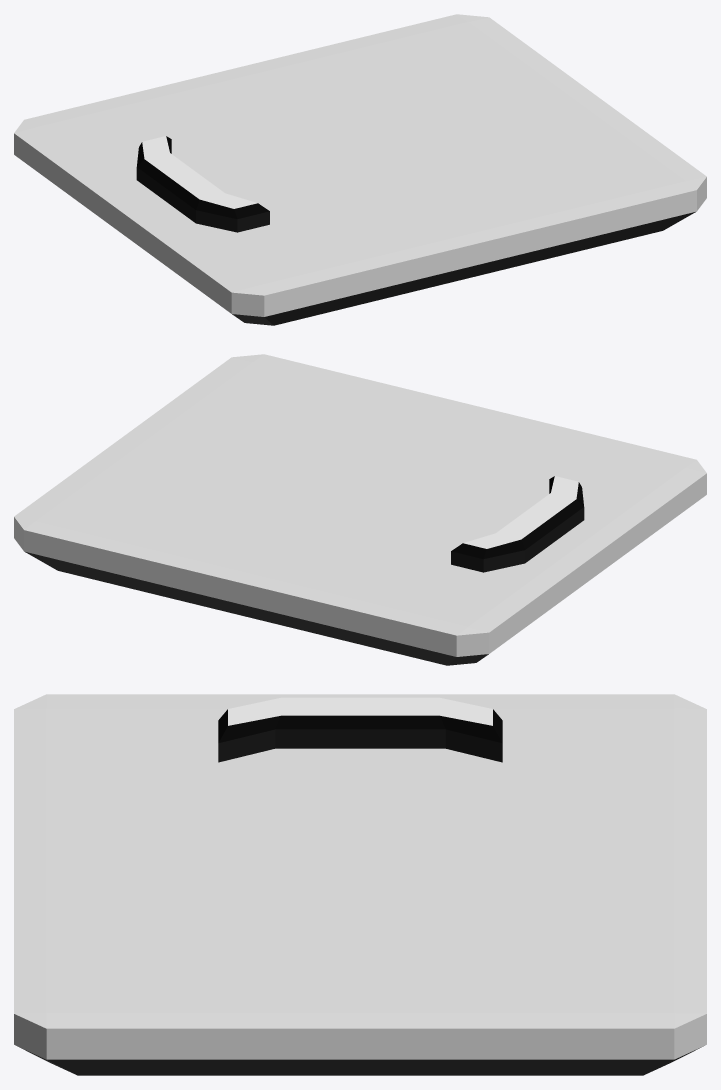
Rendered from WeightScale.001.fbx.
The picture shows the model from 3 angles, top to bottom: view 1: azimuth 30°, elevation 25°; view 2: azimuth 150°, elevation 25°; view 3: azimuth 270°, elevation 25°; orthographic projection. The views are drawn at different scales.
Visible parts, largest first — view 1: WeightScale.001; view 2: WeightScale.001; view 3: WeightScale.001.
Boxes of the visible parts, x1=… form: WeightScale.001: x1=14, y1=14, x2=706, y2=325; WeightScale.001: x1=14, y1=354, x2=706, y2=665; WeightScale.001: x1=14, y1=694, x2=706, y2=1075.
Bounding box in the file's own units: 32.5 × 4.32 × 28.45.
